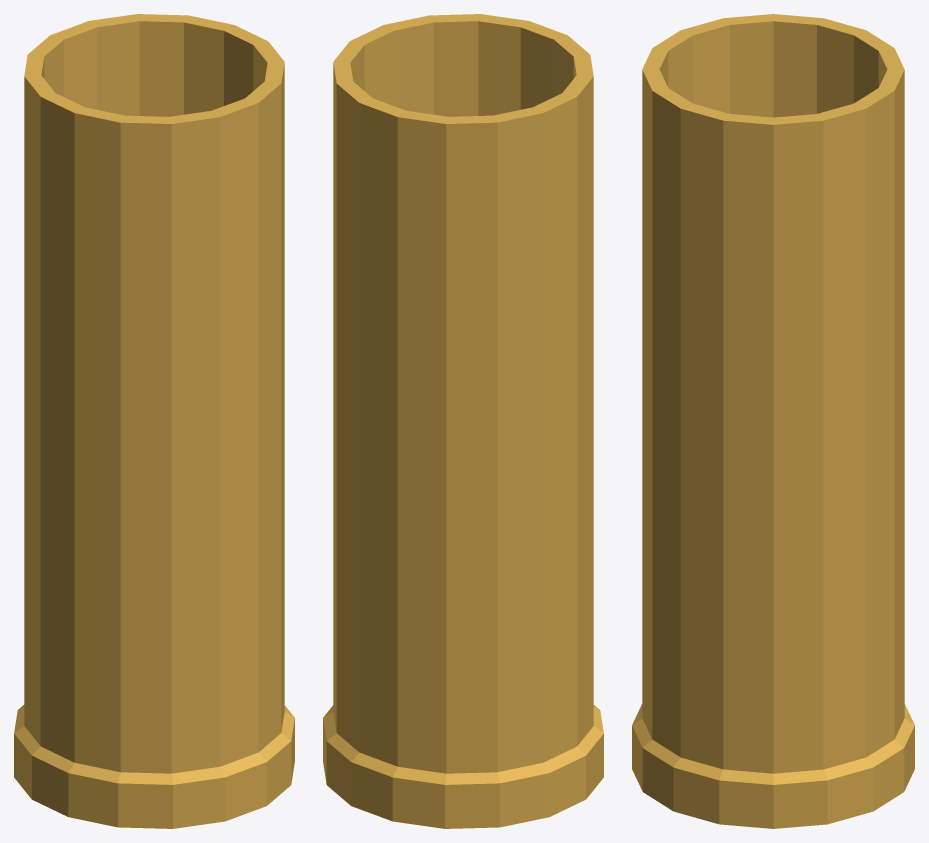
The model's file is 357 Magnum Shell.fbx.
3 views of the same model, side by side, from view 1: azimuth 30°, elevation 25°; view 2: azimuth 150°, elevation 25°; view 3: azimuth 270°, elevation 25° (orthographic).
Parts seen in each view (by area): view 1: Cylinder.004; view 2: Cylinder.004; view 3: Cylinder.004.
Part boxes in pixels (left/top/right/bottom): Cylinder.004: left=14, top=14, right=294, bottom=828; Cylinder.004: left=323, top=14, right=603, bottom=828; Cylinder.004: left=632, top=14, right=914, bottom=828.
Size of the model in its own units: 1.2 by 3.29 by 1.2.
